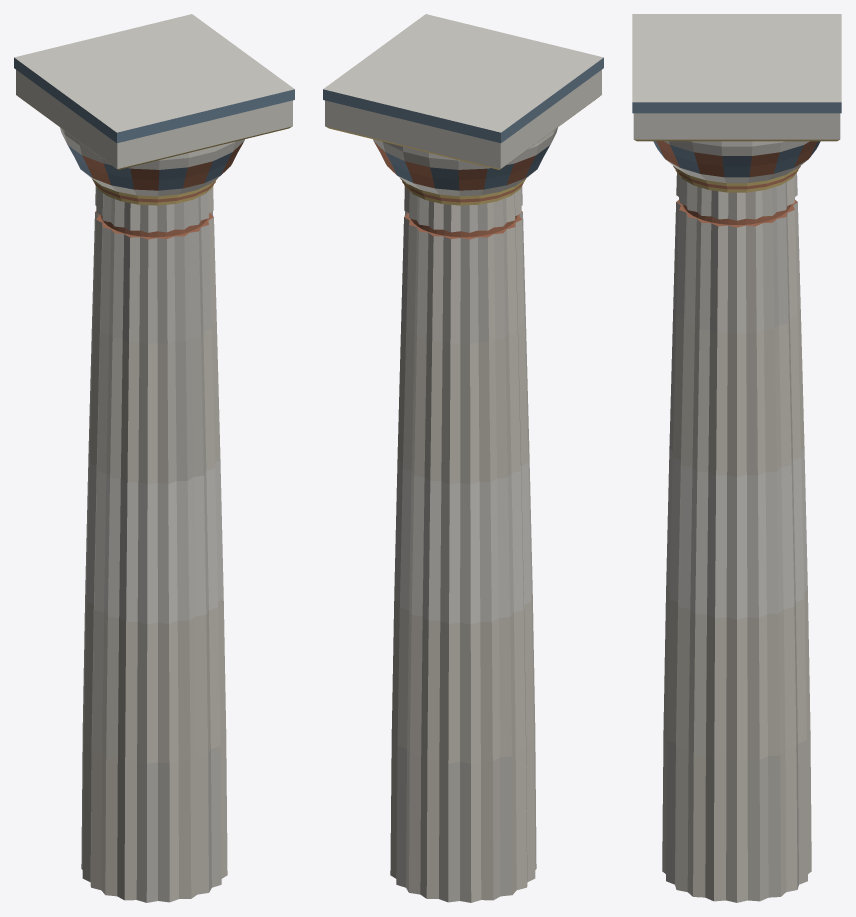
The model's file is column-run-018da3.glb.
3 renders of one model, left to right at view 1: azimuth 30°, elevation 25°; view 2: azimuth 150°, elevation 25°; view 3: azimuth 270°, elevation 25°, orthographic.
Parts seen in each view (by area): view 1: column; view 2: column; view 3: column.
Boxes of the visible parts, box(x1,y1,x2,y2) form: column: box(14, 14, 294, 902); column: box(323, 14, 603, 902); column: box(632, 14, 841, 902).
Size of the model in its own units: 1.4 by 6 by 1.4.
